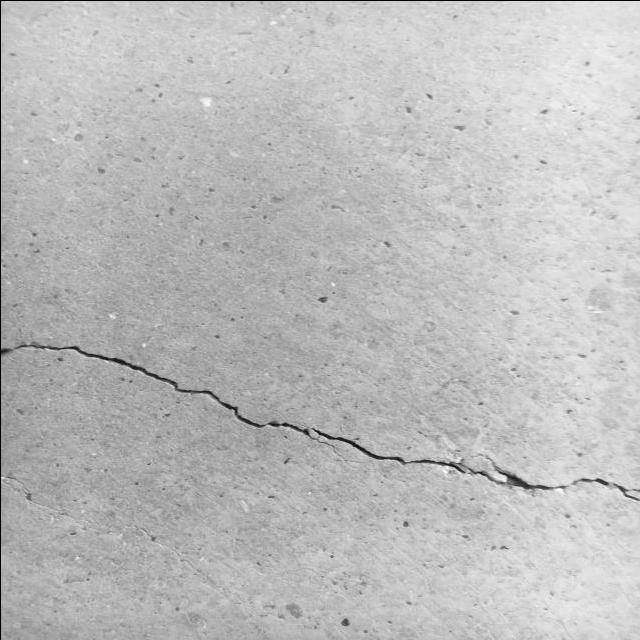SurfaceCrack: (0, 307, 639, 538)
